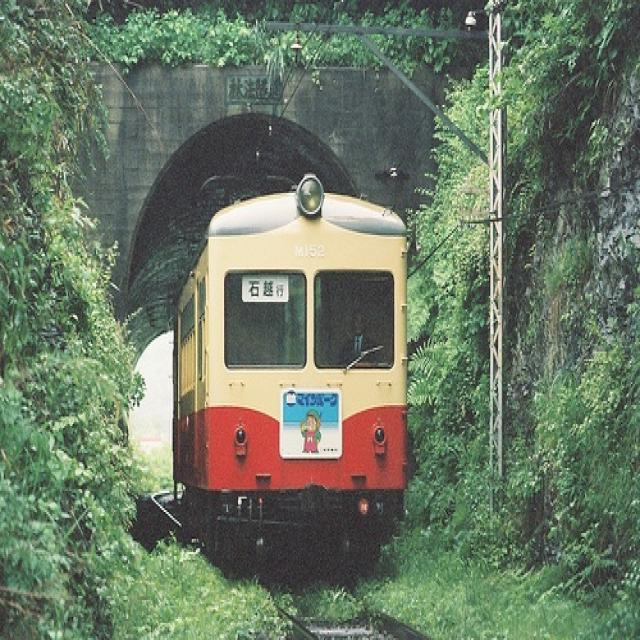train: (172, 176, 410, 567)
